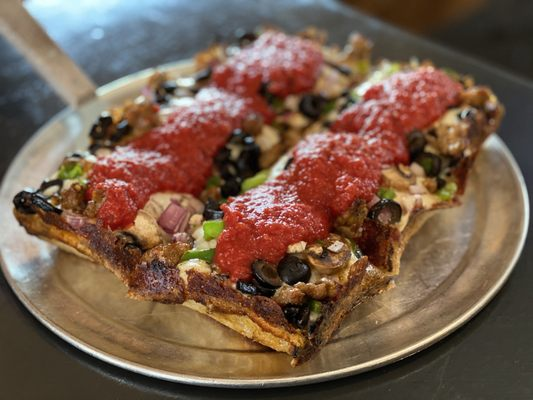sandwich: (2, 9, 527, 359)
